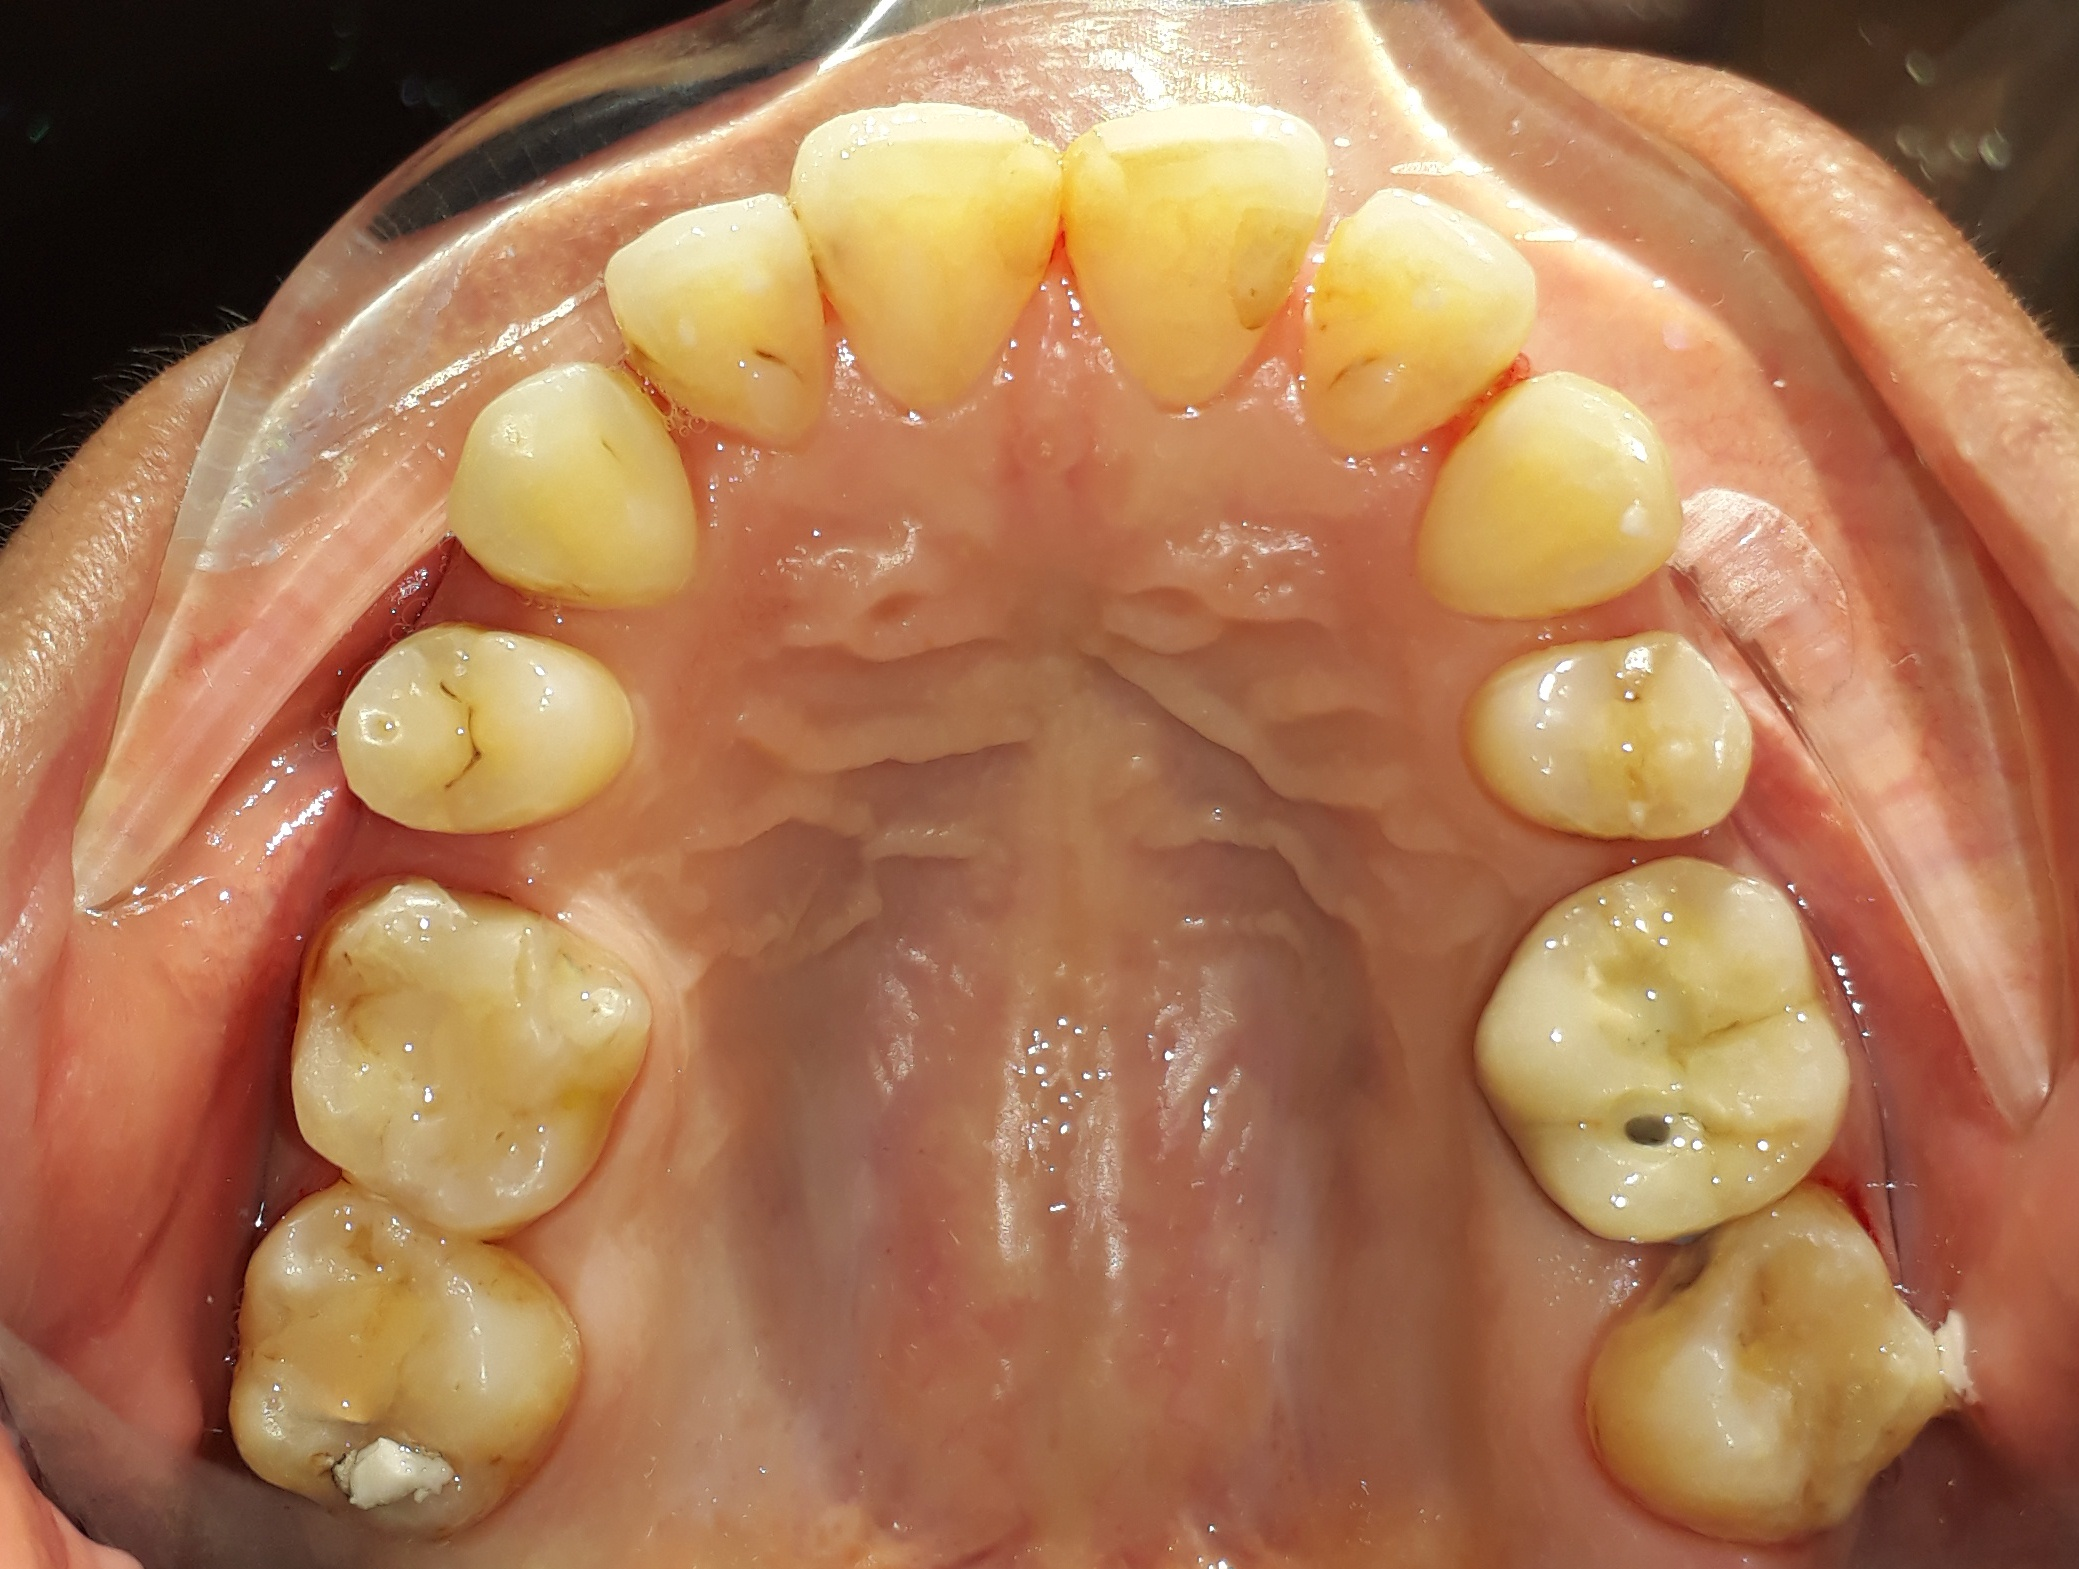1st Molar: (1577, 1201, 1965, 1544), (236, 1197, 582, 1533)
1st Premolar: (329, 615, 641, 836), (1458, 623, 1763, 842)
2nd Premolar: (1479, 845, 1857, 1244), (287, 864, 649, 1233)
Canine: (1423, 361, 1684, 620), (458, 349, 707, 602)
Central Incisor: (791, 91, 1068, 409), (1068, 91, 1320, 415)
Lateral Incisor: (605, 191, 835, 445), (1311, 188, 1534, 447)
